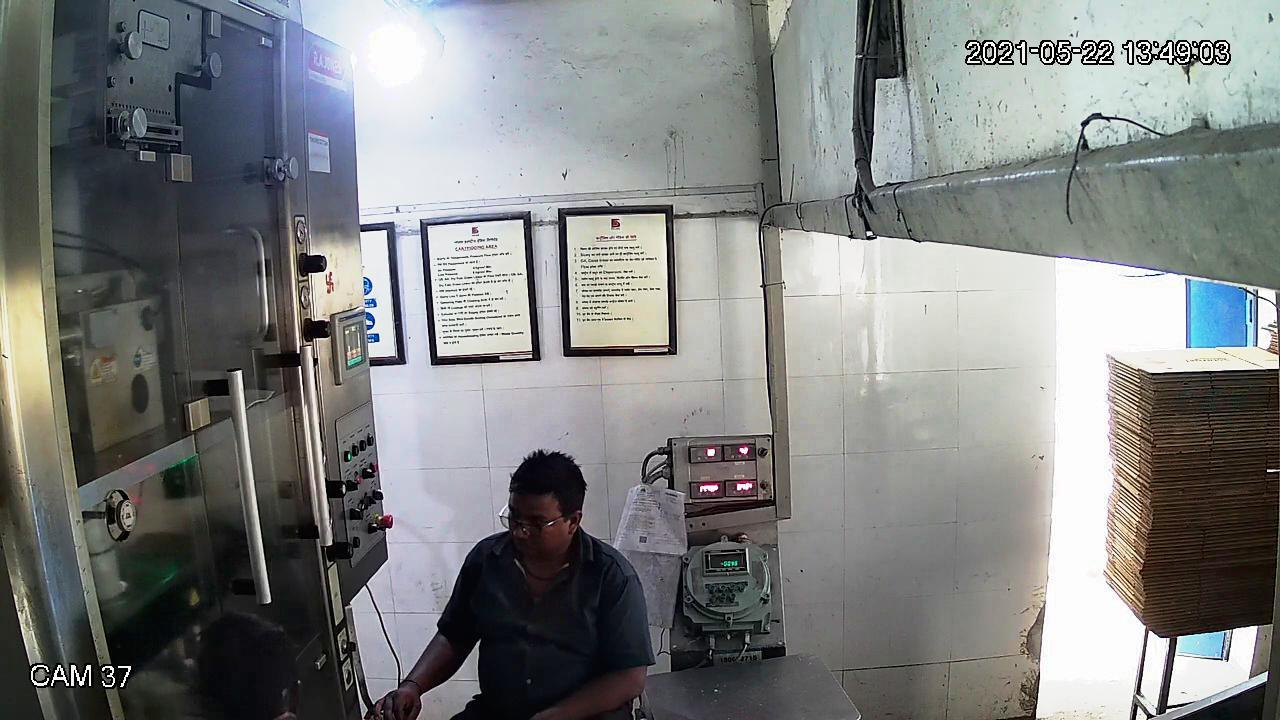Person: (371, 449, 654, 720)
